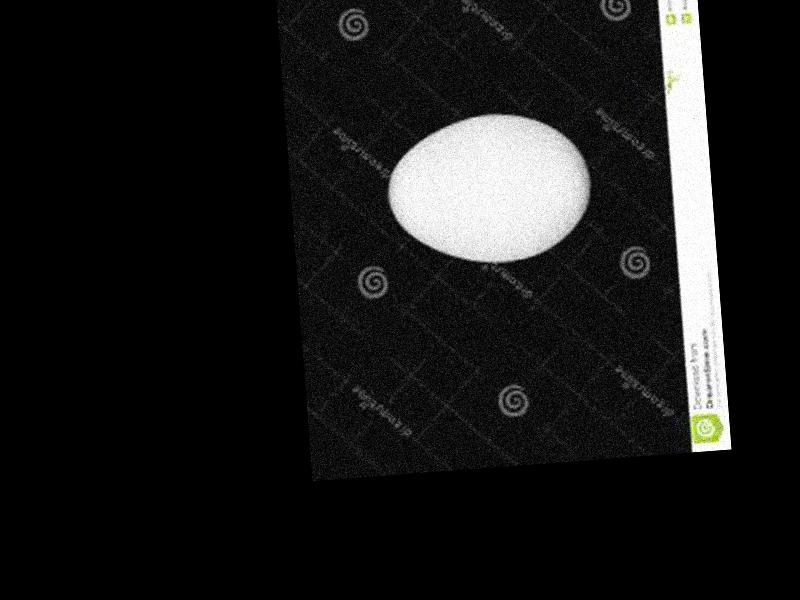Eggs: (383, 104, 594, 268)
